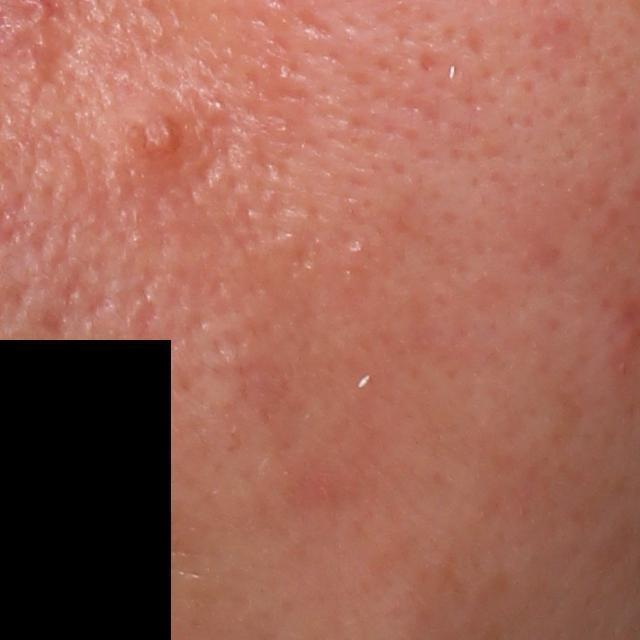papule: (123, 110, 191, 169)
